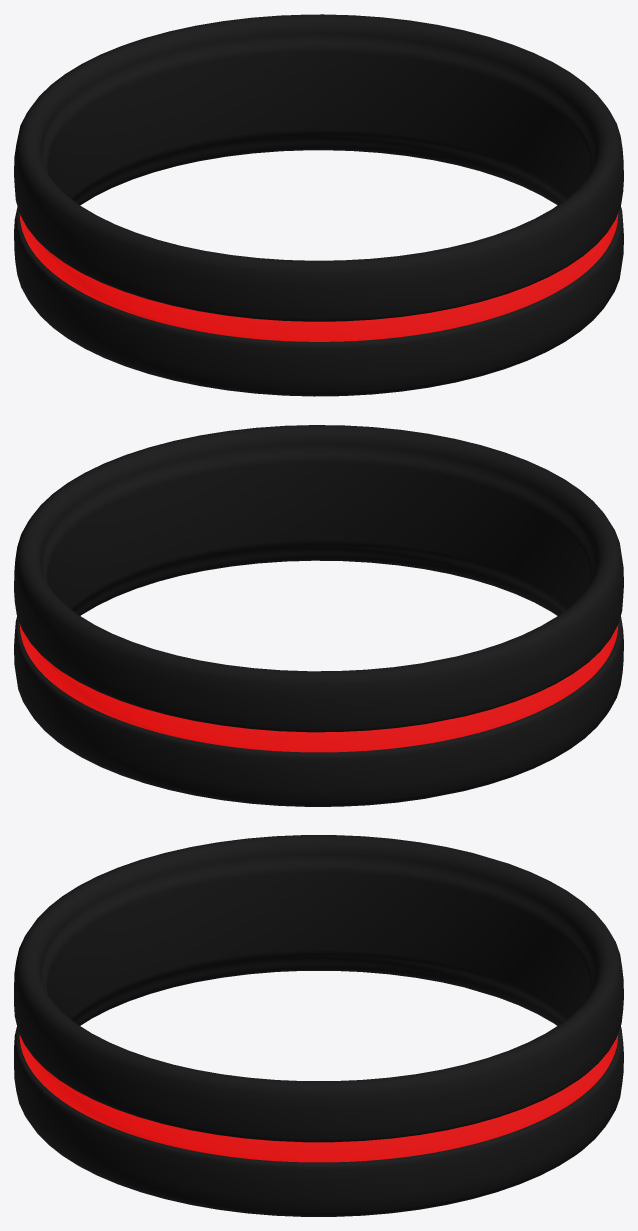
The model's file is ring_black_and_red.glb.
3 views of the same model, one above another, from view 1: azimuth 30°, elevation 25°; view 2: azimuth 150°, elevation 25°; view 3: azimuth 270°, elevation 25° (orthographic).
Parts seen in each view (by area): view 1: Ring_1, MidleRing_0; view 2: Ring_1, MidleRing_0; view 3: Ring_1, MidleRing_0.
Part boxes in pixels (bbox=[...]): Ring_1: bbox=[14, 14, 623, 396]; MidleRing_0: bbox=[19, 213, 618, 341]; Ring_1: bbox=[14, 425, 623, 806]; MidleRing_0: bbox=[19, 624, 618, 752]; Ring_1: bbox=[14, 835, 623, 1216]; MidleRing_0: bbox=[19, 1035, 617, 1162].
Size of the model in its own units: 1.98 by 0.4781 by 1.98.
